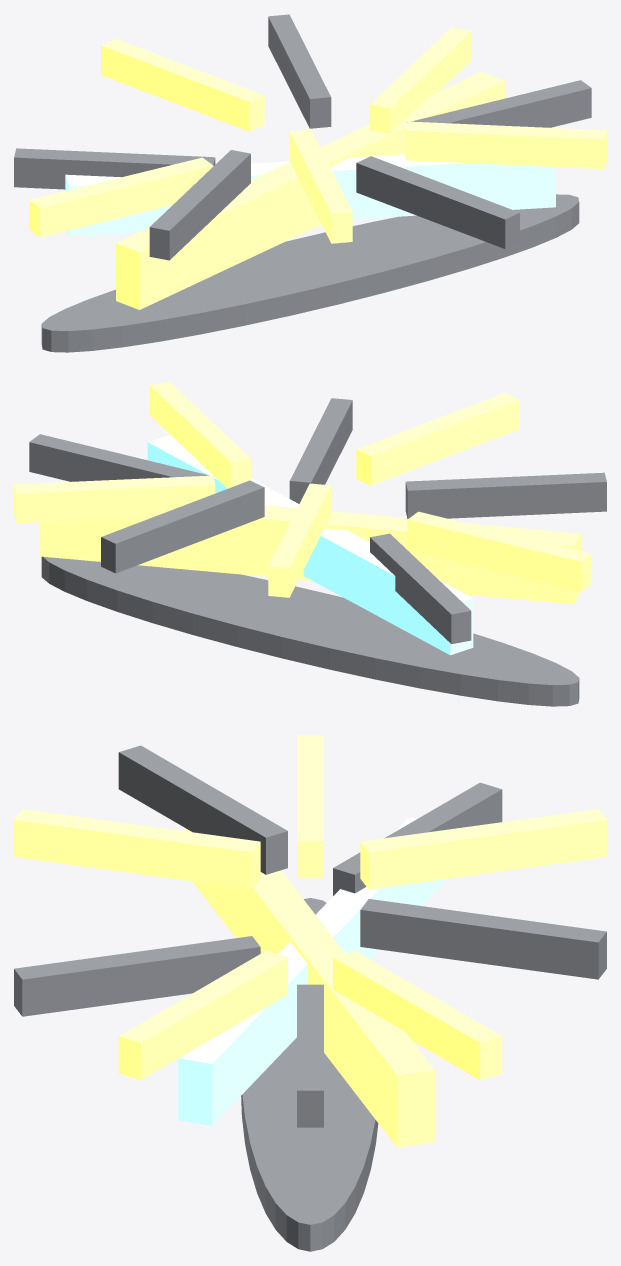
File: guard_clash.glb
3 views of the same model, one above another, from view 1: azimuth 30°, elevation 25°; view 2: azimuth 150°, elevation 25°; view 3: azimuth 270°, elevation 25° (orthographic). The views are drawn at different scales.
Parts seen in each view (by area): view 1: guard clash hit bone disc, guard clash parry cross, guard clash counter cross, guard clash spark 9, guard clash spark 5, guard clash spark 3, guard clash spark 8, guard clash spark 6, guard clash spark 1, guard clash spark 4, guard clash spark 0, guard clash spark 7 (+1 smaller); view 2: guard clash hit bone disc, guard clash parry cross, guard clash counter cross, guard clash spark 6, guard clash spark 5, guard clash spark 1, guard clash spark 7, guard clash spark 2, guard clash spark 9, guard clash spark 4, guard clash spark 0, guard clash spark 3 (+1 smaller); view 3: guard clash parry cross, guard clash hit bone disc, guard clash counter cross, guard clash spark 2, guard clash spark 3, guard clash spark 7, guard clash spark 8, guard clash spark 9, guard clash spark 1, guard clash spark 6, guard clash spark 4, guard clash spark 0 (+1 smaller).
Part boxes in pixels (box(x1,y1,x2,y2)): guard clash hit bone disc: box(41, 194, 579, 352); guard clash parry cross: box(116, 72, 504, 309); guard clash counter cross: box(65, 154, 555, 236); guard clash spark 9: box(405, 121, 606, 169); guard clash spark 5: box(29, 157, 213, 237); guard clash spark 3: box(101, 38, 264, 131); guard clash spark 8: box(356, 156, 519, 248); guard clash spark 6: box(149, 150, 250, 260); guard clash spark 1: box(370, 27, 471, 133); guard clash spark 4: box(14, 148, 215, 189); guard clash spark 0: box(407, 80, 591, 127); guard clash spark 7: box(289, 129, 352, 243); guard clash hit bone disc: box(41, 556, 579, 706); guard clash parry cross: box(40, 505, 580, 604); guard clash counter cross: box(147, 434, 473, 655); guard clash spark 6: box(405, 472, 606, 518); guard clash spark 5: box(407, 511, 591, 591); guard clash spark 1: box(14, 475, 215, 523); guard clash spark 7: box(356, 393, 519, 485); guard clash spark 2: box(101, 480, 264, 573); guard clash spark 9: box(149, 381, 250, 488); guard clash spark 4: box(370, 533, 471, 644); guard clash spark 0: box(29, 434, 213, 481); guard clash spark 3: box(268, 483, 331, 597); guard clash parry cross: box(186, 828, 434, 1147); guard clash hit bone disc: box(241, 898, 378, 1251); guard clash counter cross: box(178, 817, 442, 1125); guard clash spark 2: box(360, 899, 606, 979); guard clash spark 3: box(360, 809, 606, 889); guard clash spark 7: box(14, 809, 260, 889); guard clash spark 8: box(14, 936, 260, 1016); guard clash spark 9: box(118, 951, 287, 1080); guard clash spark 1: box(333, 951, 502, 1080); guard clash spark 6: box(118, 745, 287, 874); guard clash spark 4: box(333, 782, 502, 895); guard clash spark 0: box(297, 984, 323, 1127).
Bounding box in the file's own units: 0.7 × 0.215 × 0.521.
